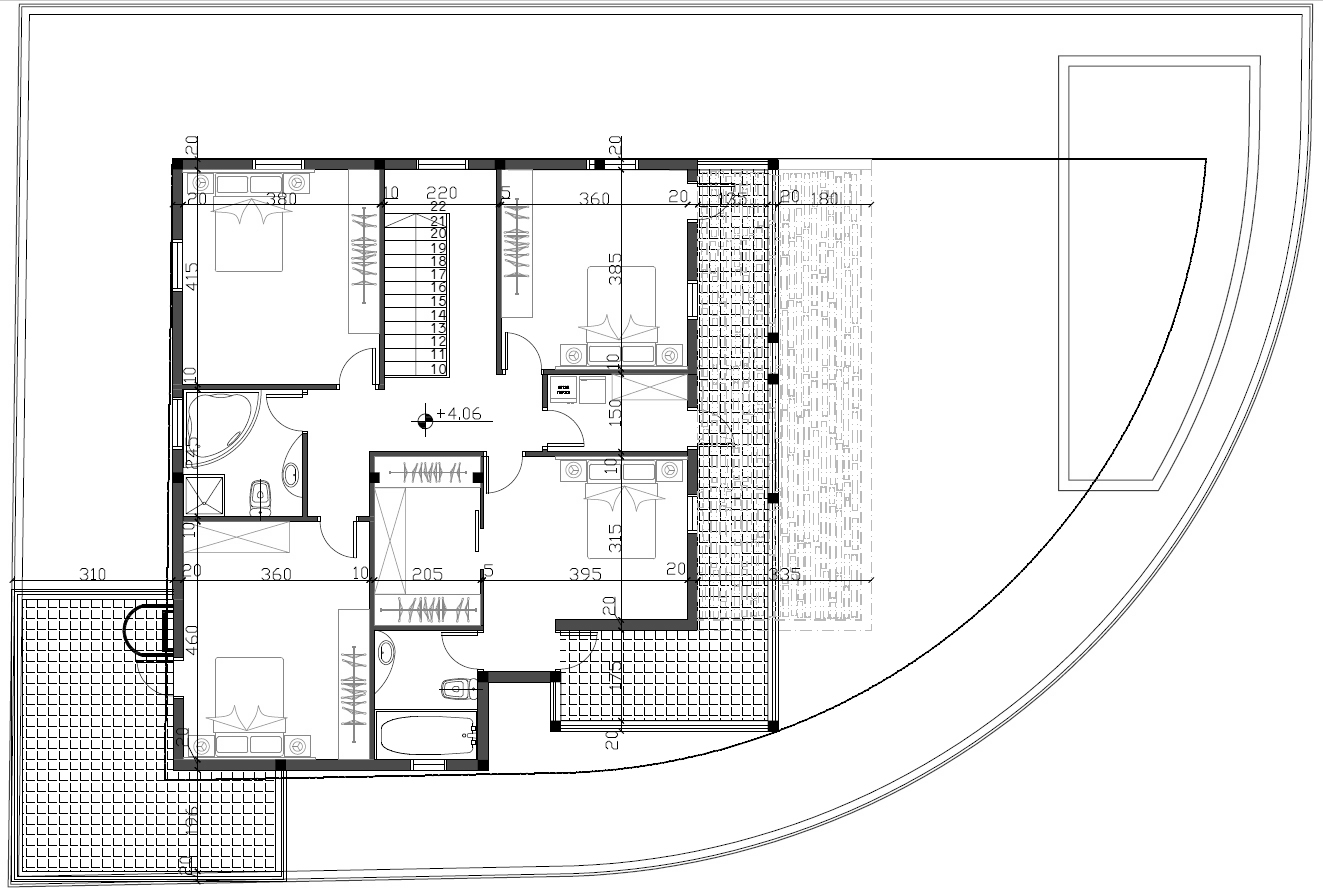wall: (186, 759, 409, 771), (172, 451, 184, 658), (170, 292, 184, 397), (555, 619, 687, 630), (468, 158, 586, 170), (304, 158, 417, 170), (476, 670, 488, 769), (170, 158, 183, 239), (687, 534, 697, 629), (173, 698, 184, 771), (687, 319, 696, 407), (638, 158, 698, 171), (686, 222, 697, 280), (687, 448, 698, 494), (445, 759, 488, 770)
